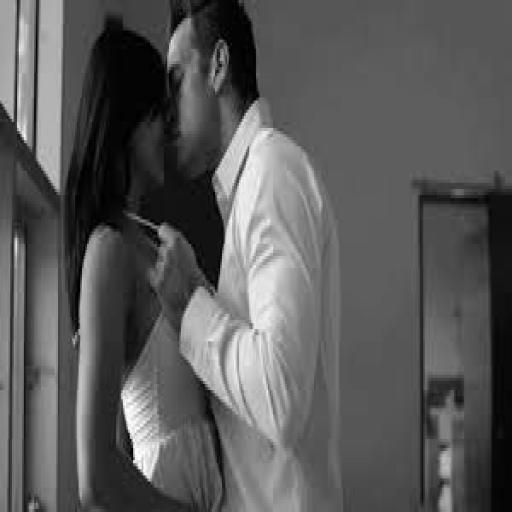hugging: (62, 0, 346, 509)
